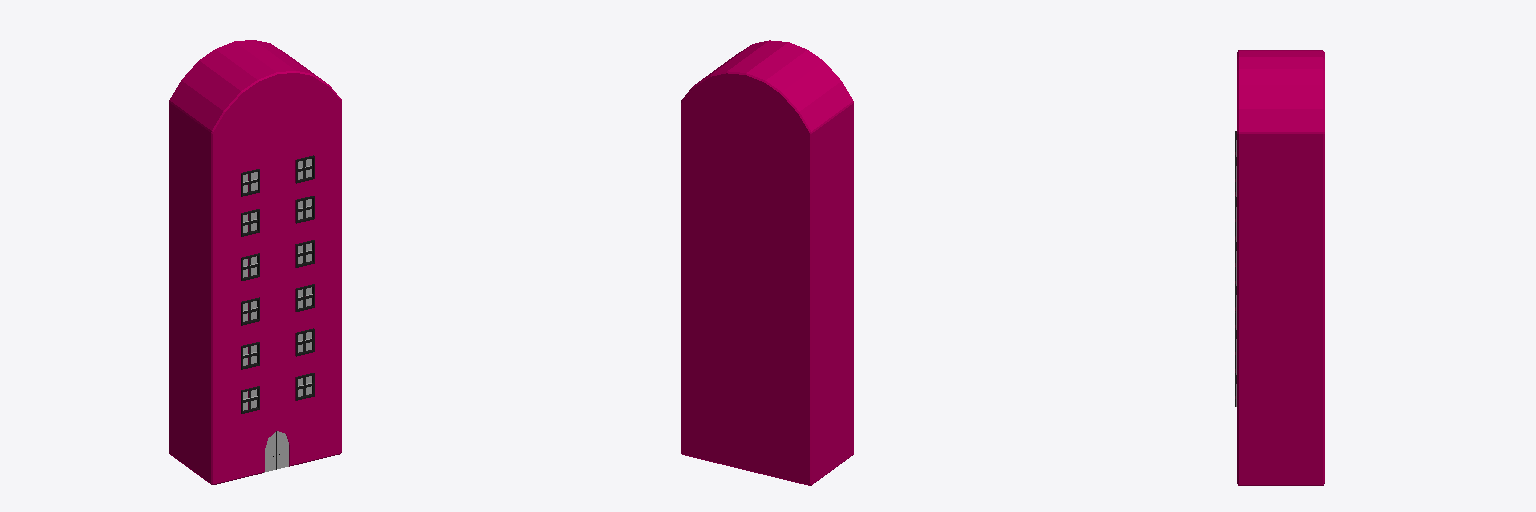
3 views of the same model, side by side, from view 1: azimuth 30°, elevation 25°; view 2: azimuth 150°, elevation 25°; view 3: azimuth 270°, elevation 25° (orthographic).
Parts seen in each view (by area): view 1: group3 group2 group1 pCube1, group3 group2 group1 pCube2; view 2: group3 group2 group1 pCube1; view 3: group3 group2 group1 pCube1.
Boxes of the visible parts, x1=… form: group3 group2 group1 pCube1: x1=169, y1=40, x2=341, y2=484; group3 group2 group1 pCube2: x1=243, y1=159, x2=311, y2=472; group3 group2 group1 pCube1: x1=681, y1=40, x2=853, y2=485; group3 group2 group1 pCube1: x1=1237, y1=50, x2=1324, y2=485.
Bounding box in the file's own units: 1.9 × 5.52 × 1.12.
2 materials, 1 textured.